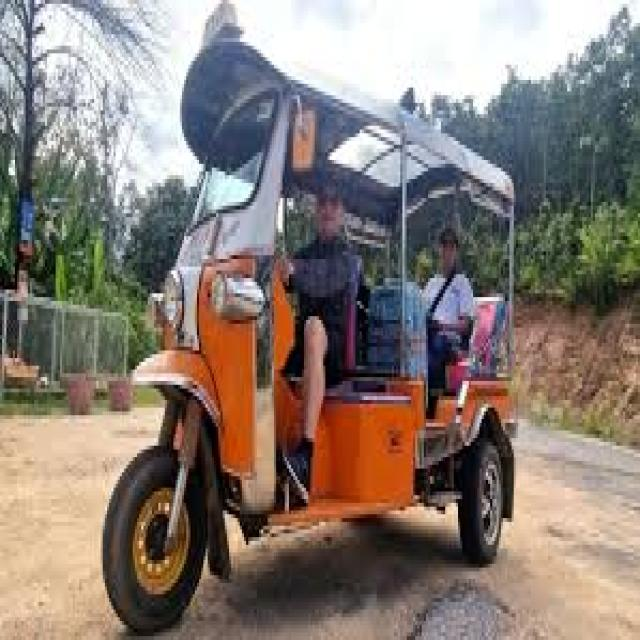tuktuk: (87, 3, 578, 640)
